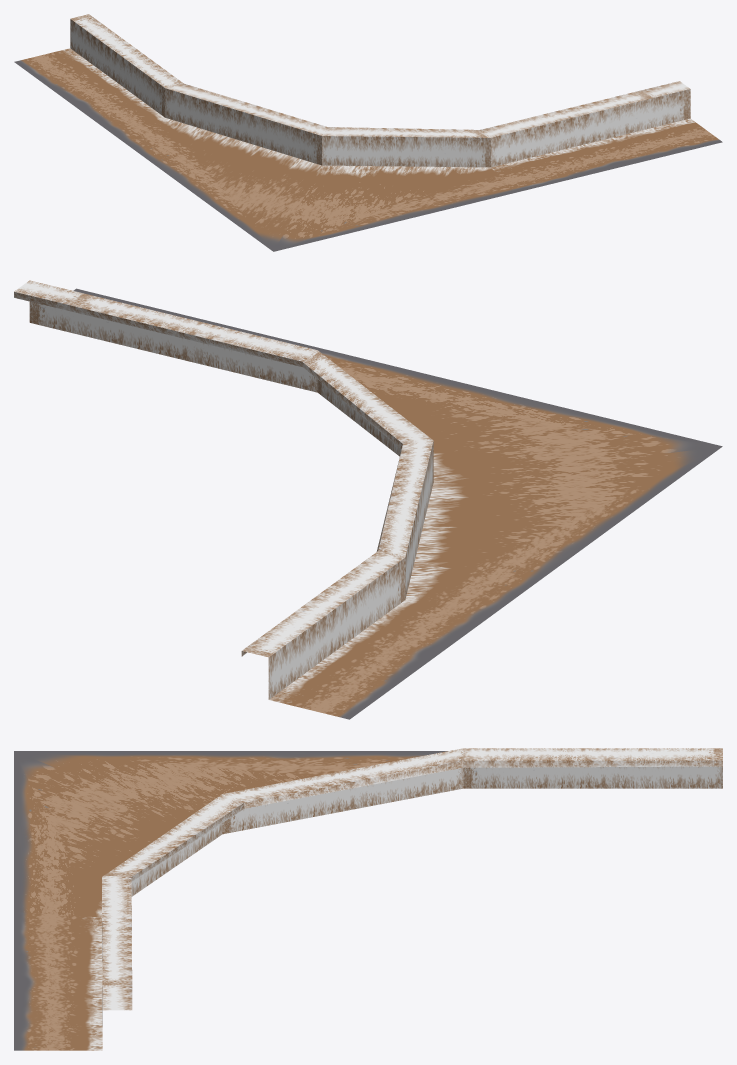
Rendered from Sidewalk_Corner_01_Curb.fbx.
The picture shows the model from 3 angles, top to bottom: view 1: azimuth 30°, elevation 25°; view 2: azimuth 150°, elevation 25°; view 3: azimuth 270°, elevation 25°; orthographic projection. The views are drawn at different scales.
Parts seen in each view (by area): view 1: Sidewalk_Corner_01_Curb; view 2: Sidewalk_Corner_01_Curb; view 3: Sidewalk_Corner_01_Curb.
Boxes of the visible parts, x1,y1,x2,y2 form: Sidewalk_Corner_01_Curb: [14, 14, 722, 251]; Sidewalk_Corner_01_Curb: [14, 280, 722, 719]; Sidewalk_Corner_01_Curb: [14, 748, 722, 1050].
Bounding box in the file's own units: 250 × 15.7 × 250.
